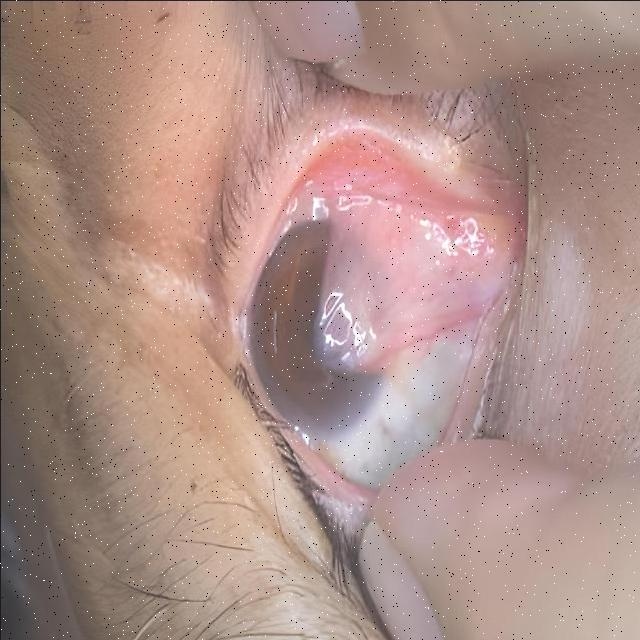Pterygium: (288, 172, 505, 380)
